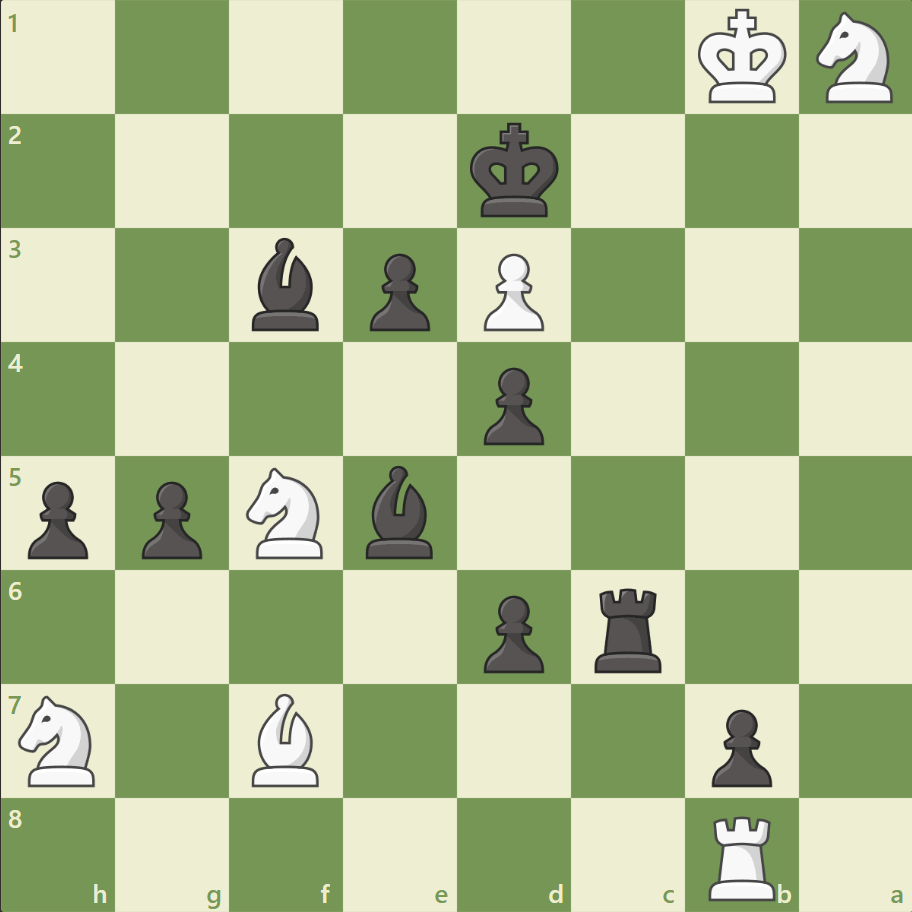B: (244, 687, 328, 790)
K: (692, 4, 792, 112)
N: (11, 688, 108, 791), (238, 461, 335, 564), (806, 7, 903, 110)
P: (474, 246, 549, 337)
R: (700, 806, 783, 904)
b: (358, 460, 442, 563), (244, 233, 328, 336)
k: (465, 117, 565, 225)
p: (701, 700, 776, 791), (474, 586, 549, 677), (133, 473, 208, 564), (20, 473, 95, 564), (474, 359, 549, 450), (361, 246, 435, 337)
r: (587, 579, 670, 676)
